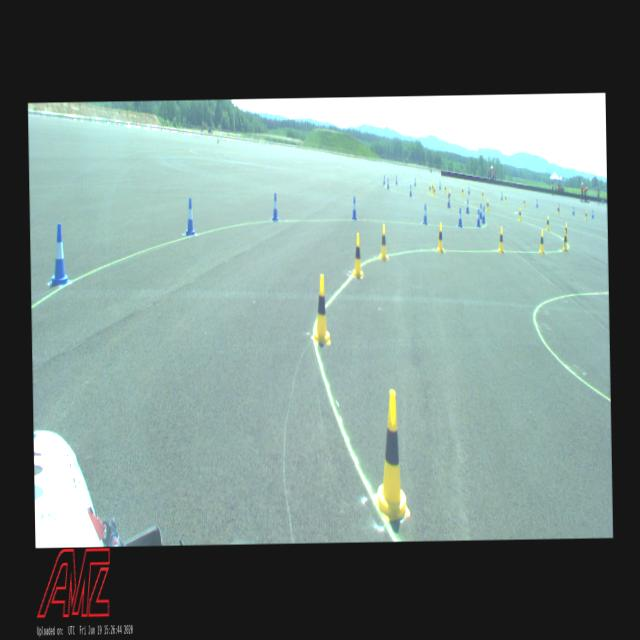blue_cone: (49, 222, 71, 286), (184, 198, 194, 235), (272, 193, 278, 220), (351, 196, 356, 219), (457, 206, 462, 226), (422, 204, 427, 224), (476, 208, 480, 226), (481, 206, 485, 223), (447, 194, 450, 207), (479, 202, 481, 218), (466, 199, 468, 214), (409, 184, 411, 196), (438, 182, 441, 190), (386, 178, 388, 189), (382, 175, 384, 185), (536, 198, 538, 207), (591, 209, 593, 218), (395, 175, 397, 184), (572, 206, 574, 215), (500, 192, 502, 200), (414, 178, 416, 186), (468, 186, 469, 194), (558, 204, 559, 212)
yellow_cone: (371, 389, 410, 522), (312, 274, 330, 344), (352, 234, 363, 278), (378, 225, 388, 259), (436, 222, 443, 252), (538, 230, 544, 254), (498, 226, 503, 254), (562, 230, 566, 251), (564, 222, 568, 240), (545, 215, 549, 231), (448, 190, 451, 202), (518, 208, 520, 220), (486, 200, 488, 212), (433, 185, 435, 196), (431, 182, 433, 192), (461, 187, 463, 196), (428, 184, 430, 193), (504, 194, 506, 203), (444, 184, 446, 193), (556, 204, 558, 213), (522, 198, 524, 206), (584, 210, 586, 218), (482, 190, 482, 198)
